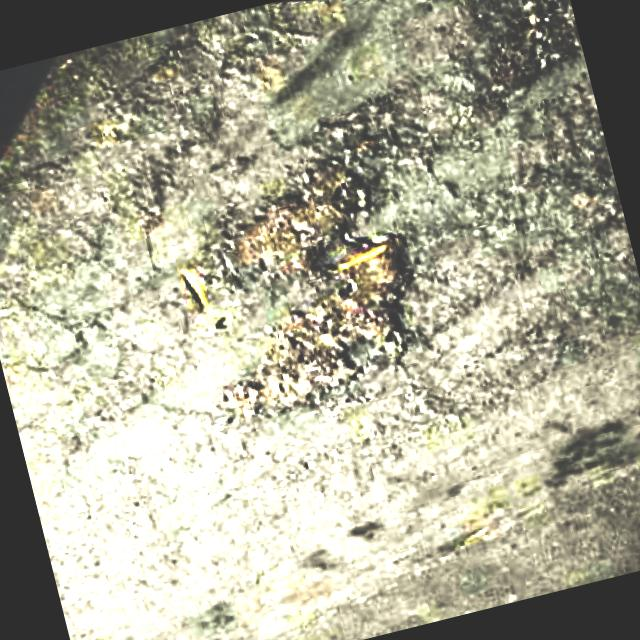pothole: (150, 84, 456, 431), (446, 0, 587, 95)
